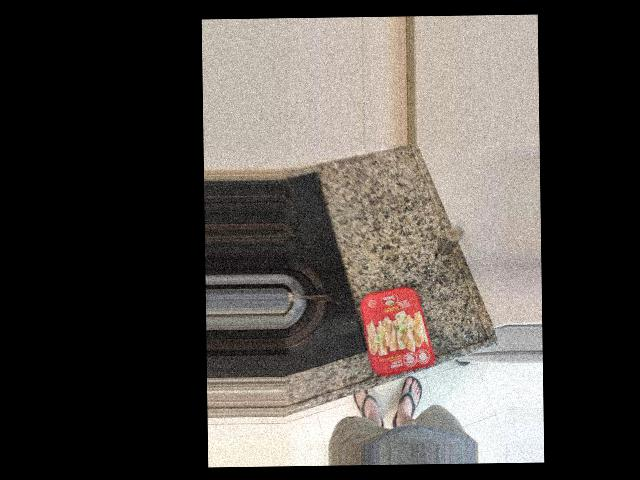cheese: (335, 193, 426, 304)
